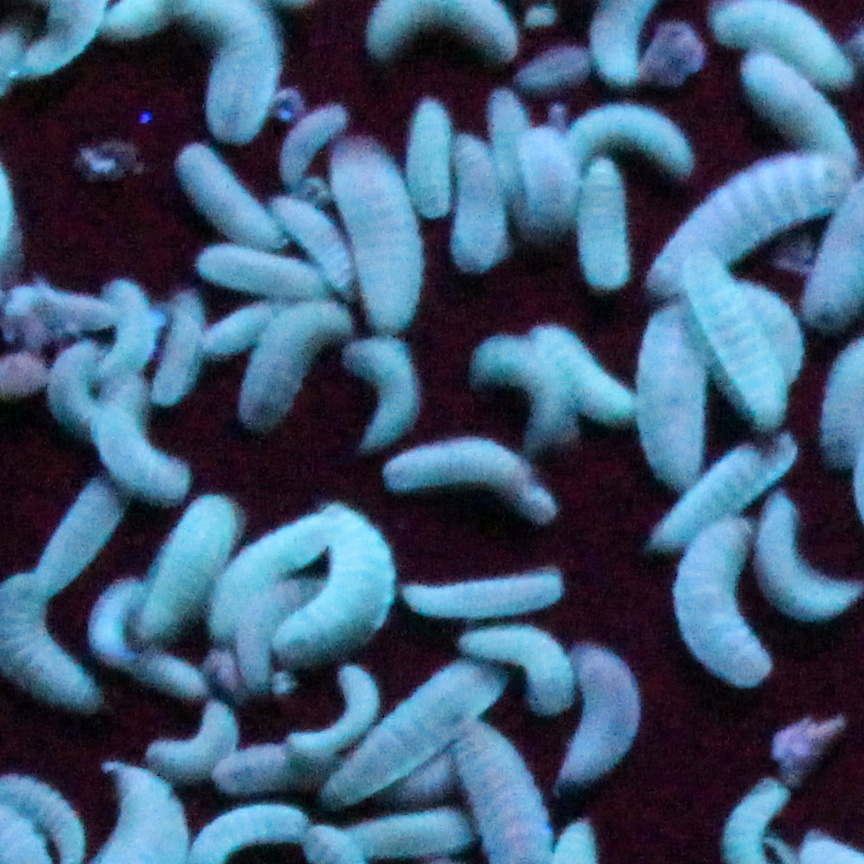larve: (652, 163, 852, 299), (328, 658, 508, 809), (269, 506, 394, 672), (682, 243, 794, 424), (335, 128, 423, 331), (667, 521, 777, 682), (655, 438, 794, 555), (213, 511, 328, 646), (138, 487, 240, 638), (386, 436, 560, 521), (635, 304, 711, 489), (552, 646, 645, 789), (235, 304, 335, 433), (474, 331, 577, 455), (757, 487, 855, 616), (743, 53, 857, 160), (35, 472, 128, 599), (464, 619, 582, 716), (184, 138, 284, 246), (91, 406, 196, 504), (284, 663, 377, 758), (543, 326, 633, 421), (343, 336, 421, 443), (401, 565, 562, 616), (582, 109, 699, 175), (452, 136, 508, 272), (191, 241, 328, 294), (584, 163, 640, 292), (150, 706, 238, 782), (118, 636, 211, 706), (272, 197, 347, 282), (518, 133, 577, 236), (277, 109, 350, 192), (99, 277, 157, 380), (203, 294, 286, 363), (352, 809, 464, 858), (408, 102, 455, 216), (52, 338, 101, 441), (21, 292, 113, 343), (486, 85, 523, 185), (384, 760, 455, 804)
